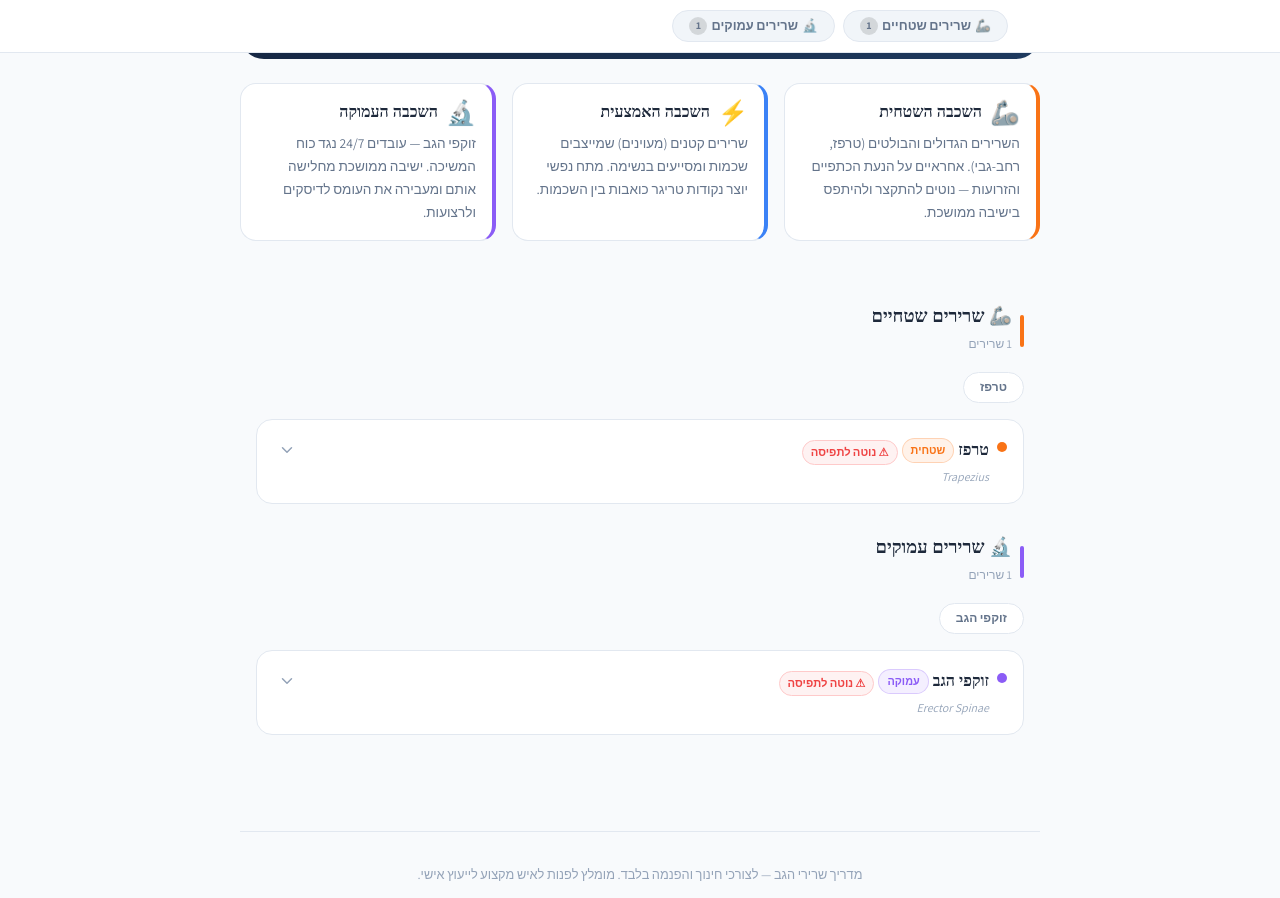
MuscleCard — stretch section › clicking the variants toggle reveals all variant cards
(page scrolled)
Click the heading "טרפז": (974, 450) x1=958 y1=440 x2=989 y2=461
(page scrolled)
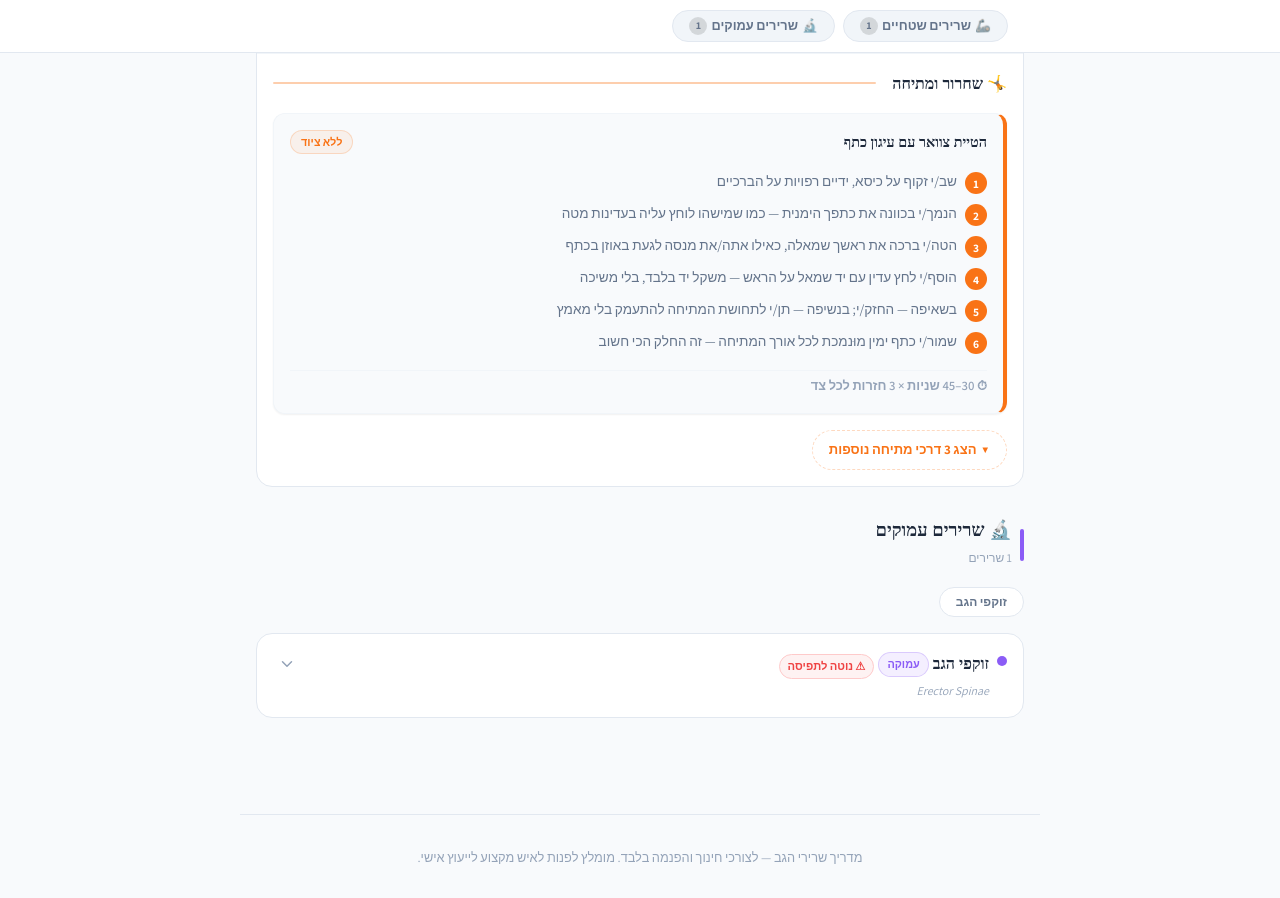
Click the button "▼ הצג 3 דרכי מתיחה נוספות": (909, 450) x1=812 y1=430 x2=1007 y2=470
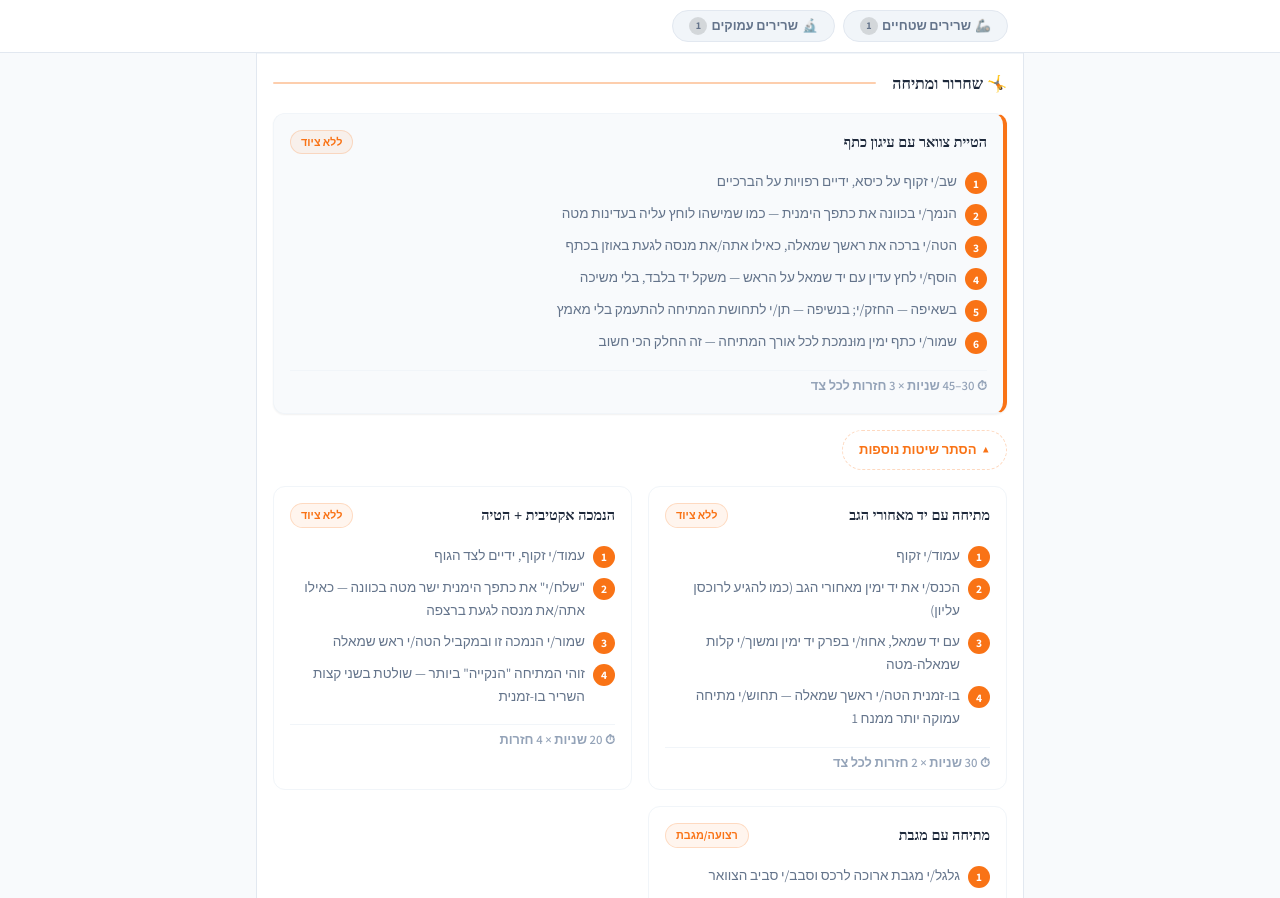
Expected: the heading "מתיחה עם יד מאחורי הגב" is shown, x1=849 y1=503 x2=990 y2=528
Expected: the heading "הנמכה אקטיבית + הטיה" is shown, x1=481 y1=503 x2=615 y2=528
Expected: the heading "מתיחה עם מגבת" is shown, x1=899 y1=823 x2=990 y2=848
